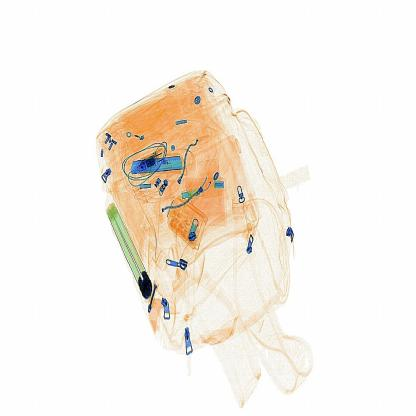pliers: (130, 148, 196, 188)
